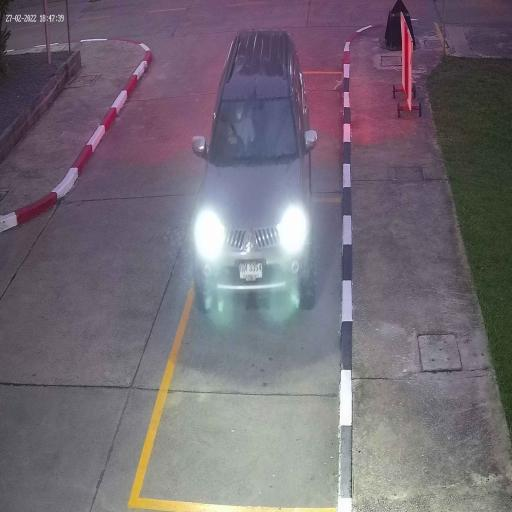car: (192, 30, 316, 316)
